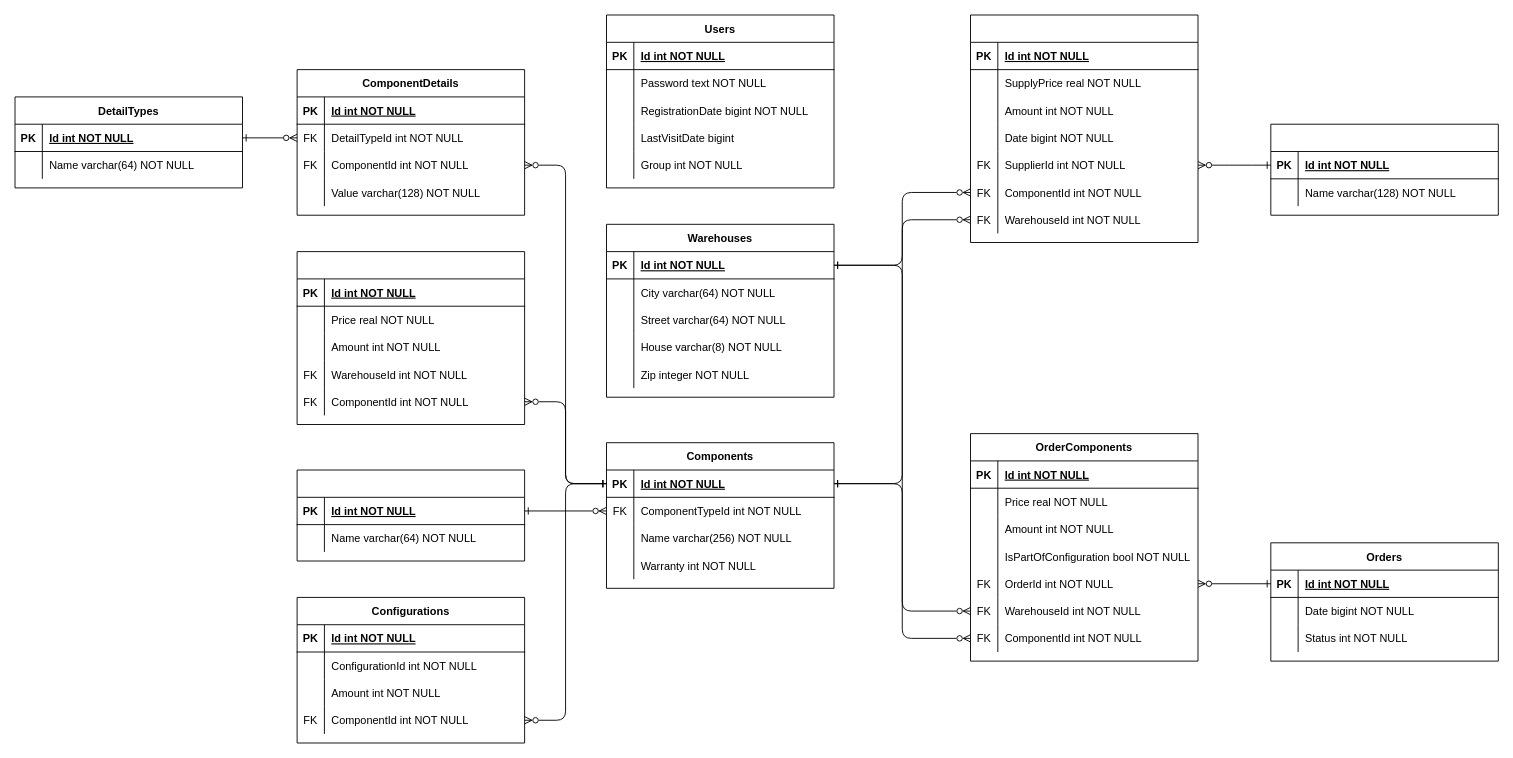
The diagram is 1513 pixels wide and 758 high, and some of its shapes have lost their labels. The box of each missing label's shape, as (x1, y1, x2, y2) in pixels:
ComponentStorages: (296, 251, 525, 425)
ComponentTypes: (296, 469, 525, 561)
Suppliers: (1270, 123, 1498, 215)
Supplies: (970, 14, 1198, 243)
